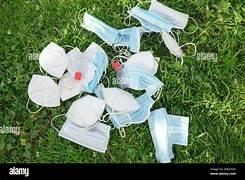Mask: (81, 13, 141, 51), (148, 108, 188, 162), (128, 0, 188, 31), (58, 119, 110, 152), (106, 93, 154, 128), (111, 93, 154, 127), (117, 65, 162, 95), (148, 108, 172, 162), (82, 42, 107, 92), (66, 95, 104, 127), (81, 12, 117, 45), (128, 6, 173, 31), (148, 0, 188, 28), (161, 31, 196, 63), (67, 47, 95, 85), (39, 42, 68, 77), (28, 74, 59, 106), (101, 87, 139, 112), (123, 51, 157, 74), (113, 27, 141, 52), (58, 73, 81, 100), (168, 115, 188, 145), (161, 31, 183, 57)
